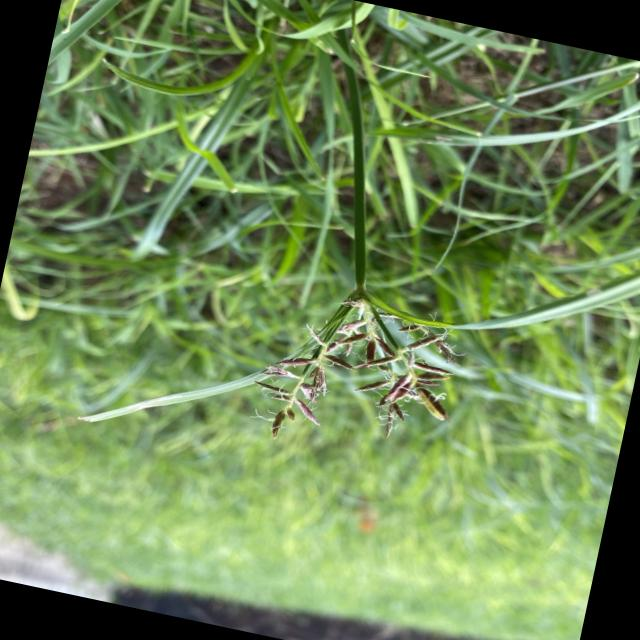cyperus: (237, 256, 490, 482)
